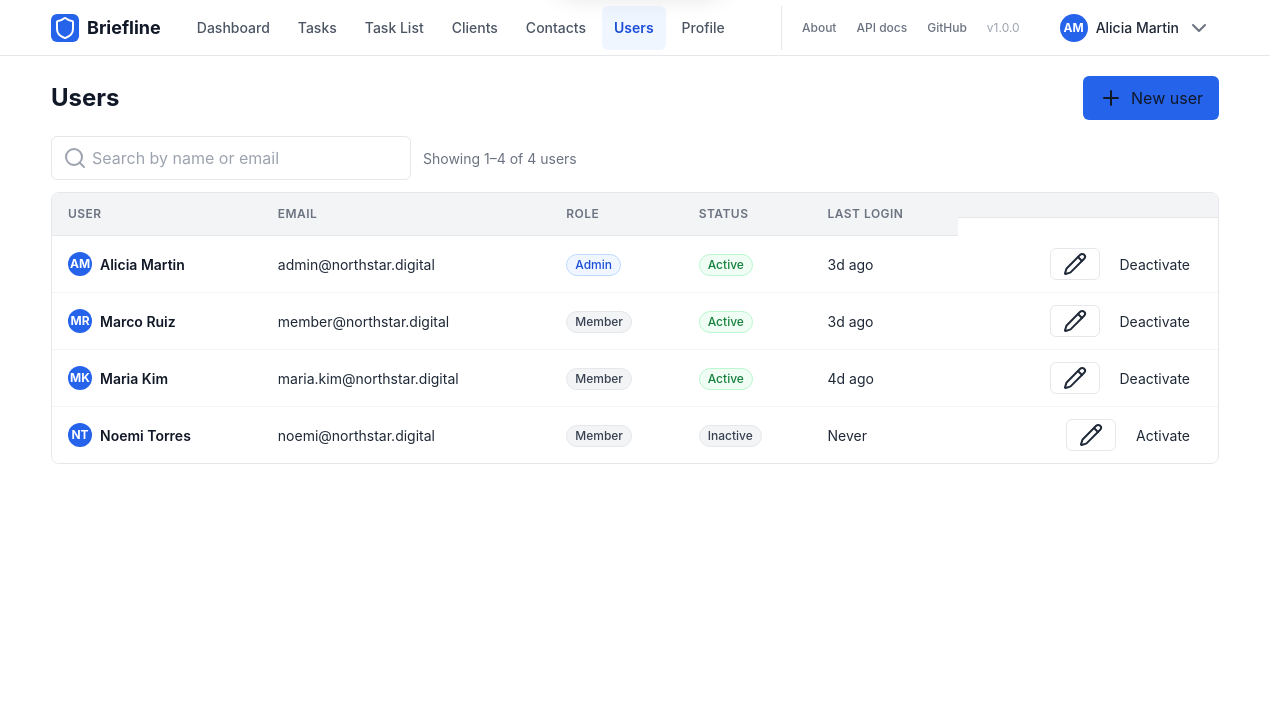
Test: User management › shows a duplicate email as an inline field error and keeps the dialog open
Check: the heading "Users" is shown, box [51, 83, 120, 113]
Check: the table named "Users" is shown, box [52, 193, 1218, 463]
Click the button "New user" at (1151, 98), box [1083, 76, 1219, 120]
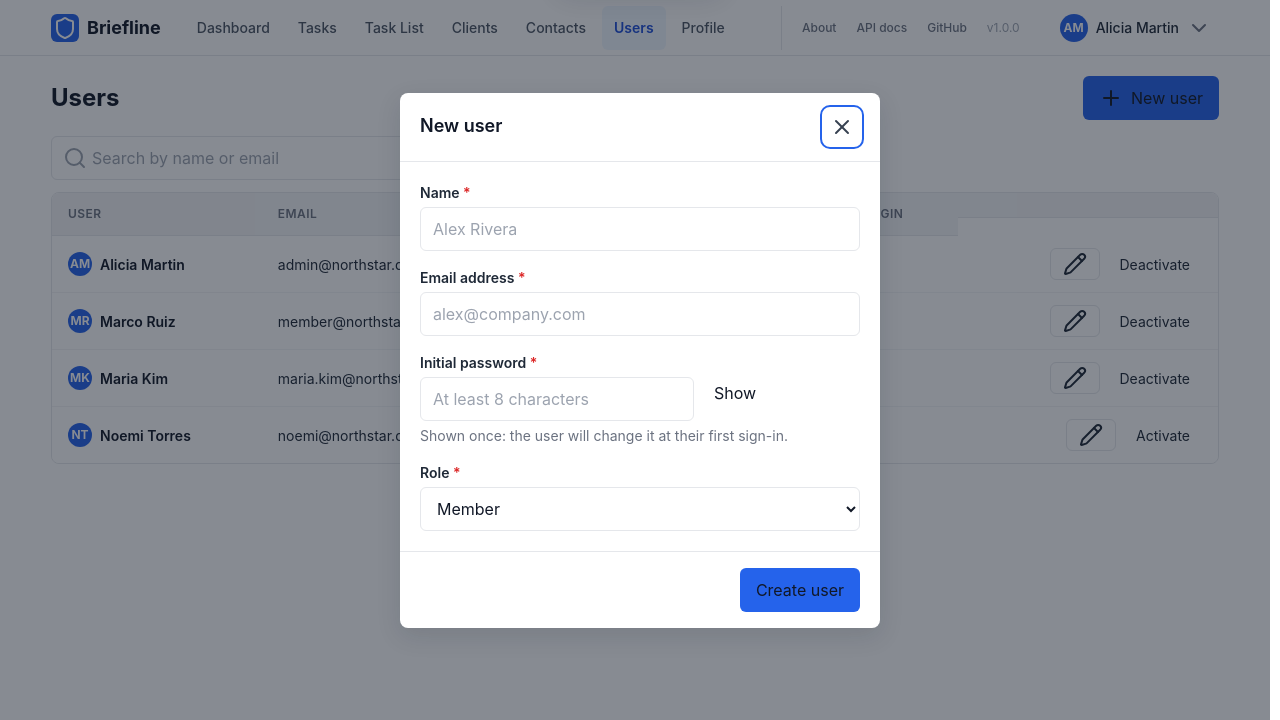
Type "Duplicate Person" into the field labelled "Name *" at (640, 228), box [420, 206, 860, 250]
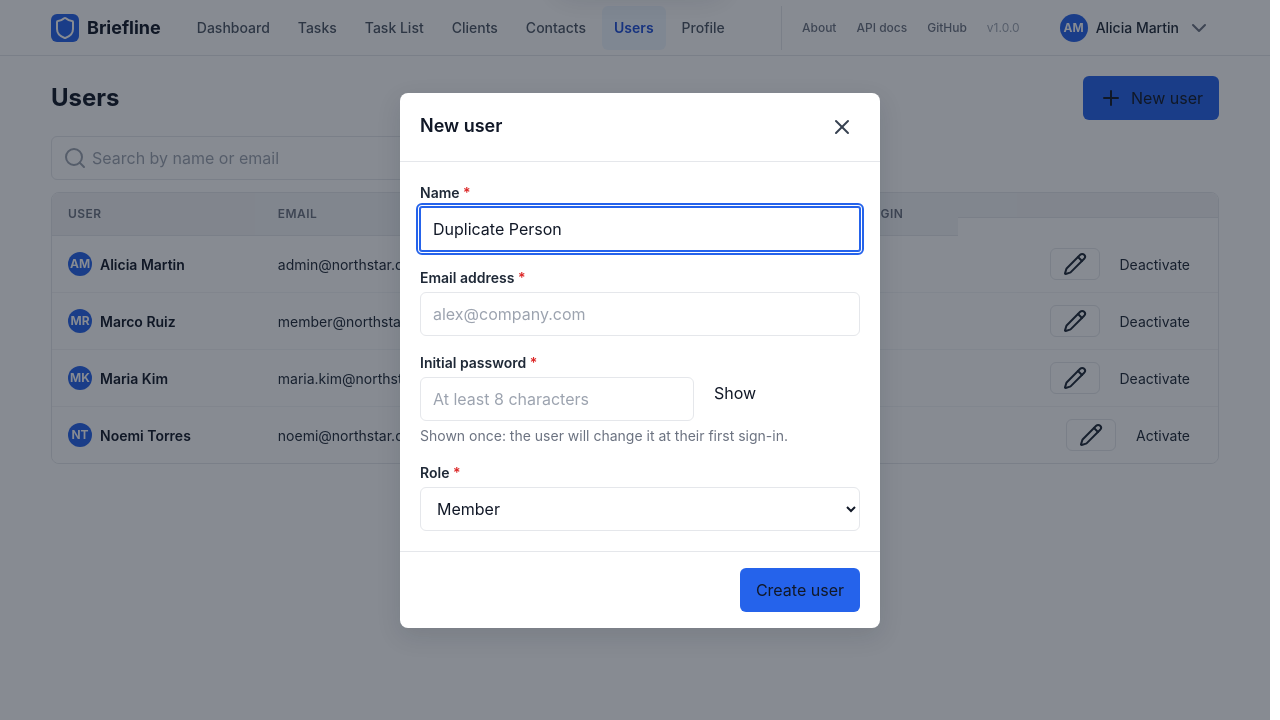
Type "maria.kim@northstar.digital" into the field labelled "Email address *" at (640, 314), box [420, 292, 860, 336]
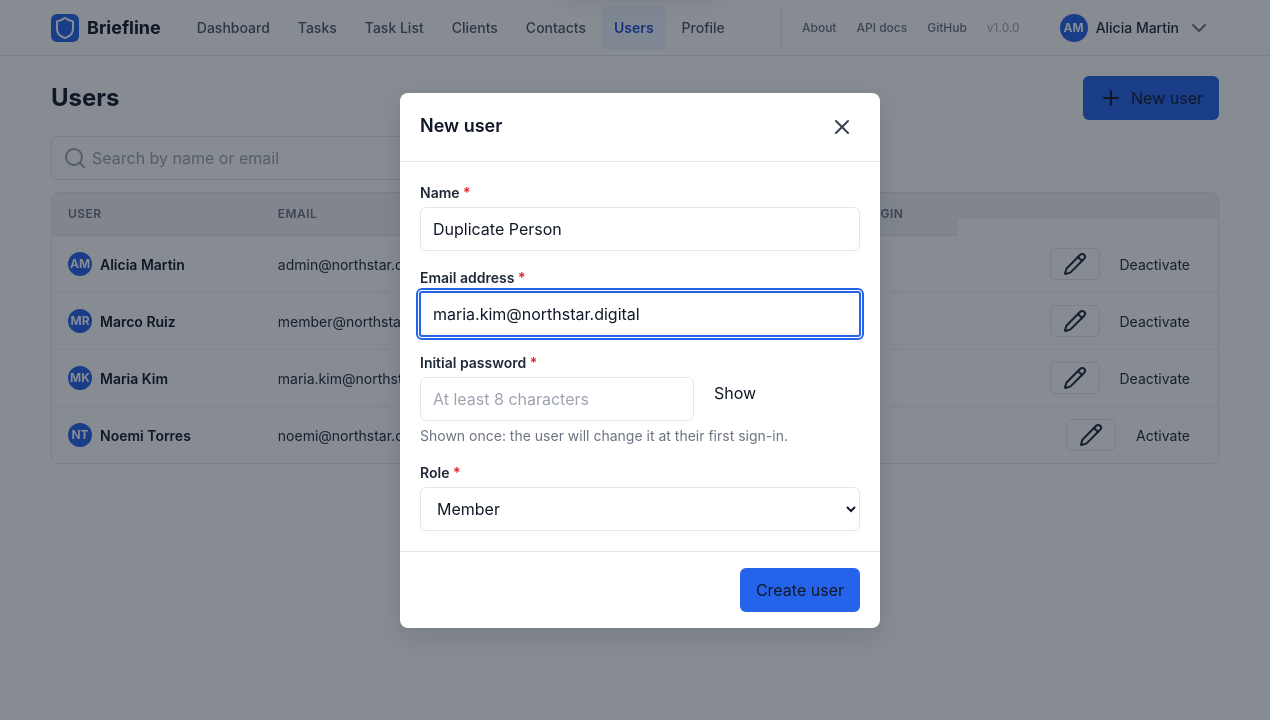
Type "S3curePass123!" into the password field labelled "Initial password *" at (557, 398), box [420, 376, 694, 420]
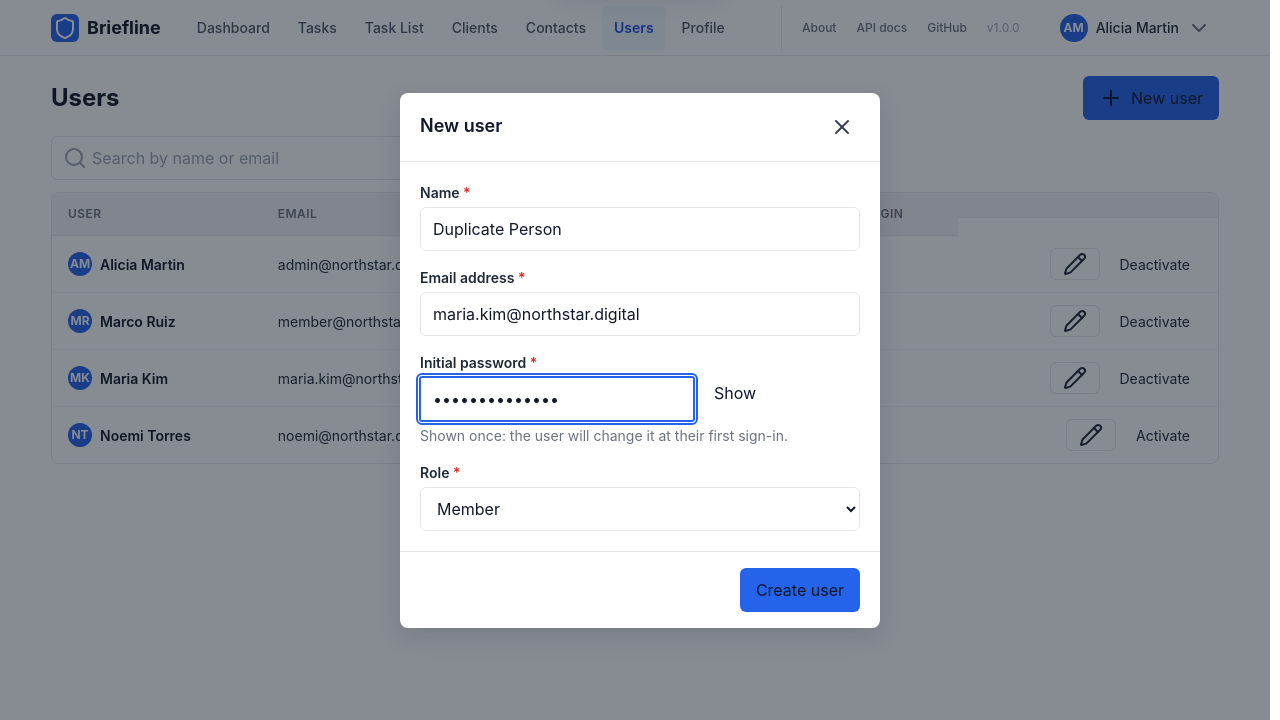
Click the button "Create user" at (800, 590), box [740, 568, 860, 612]
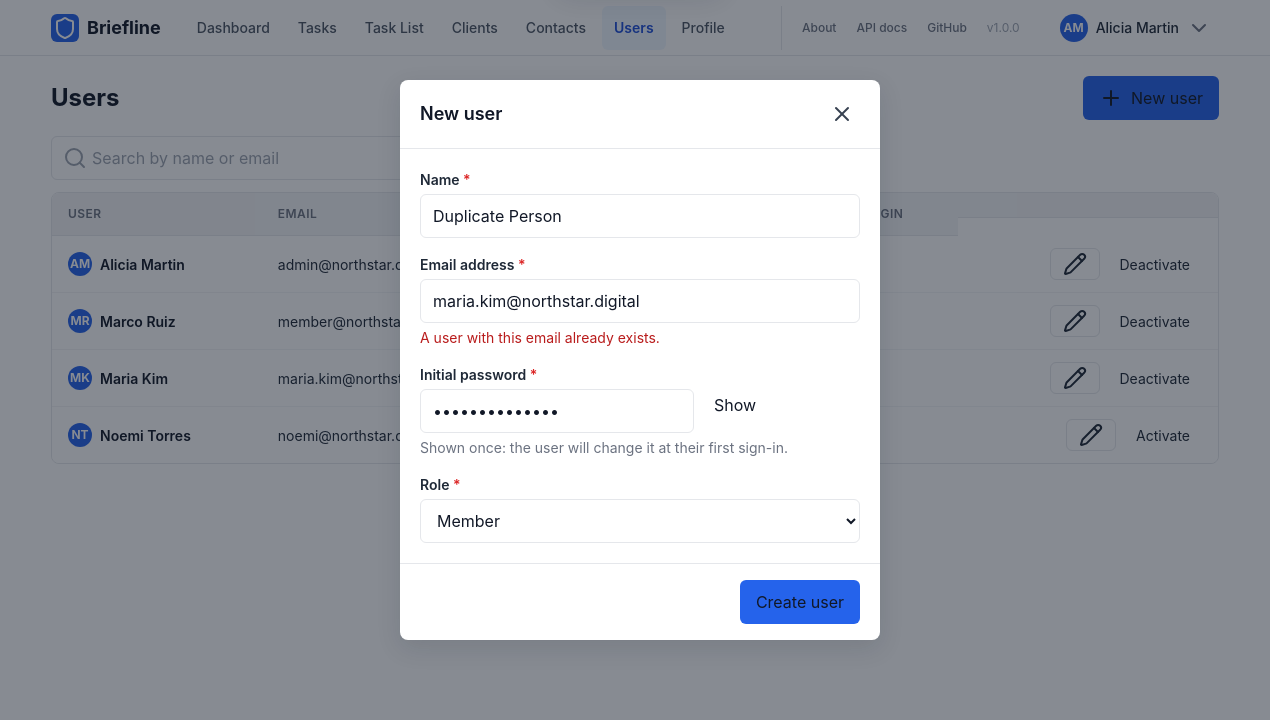
Check: the dialog "New user" is shown, box [400, 80, 880, 640]
Check: the text "A user with this email already exists." is shown, box [420, 329, 660, 346]
